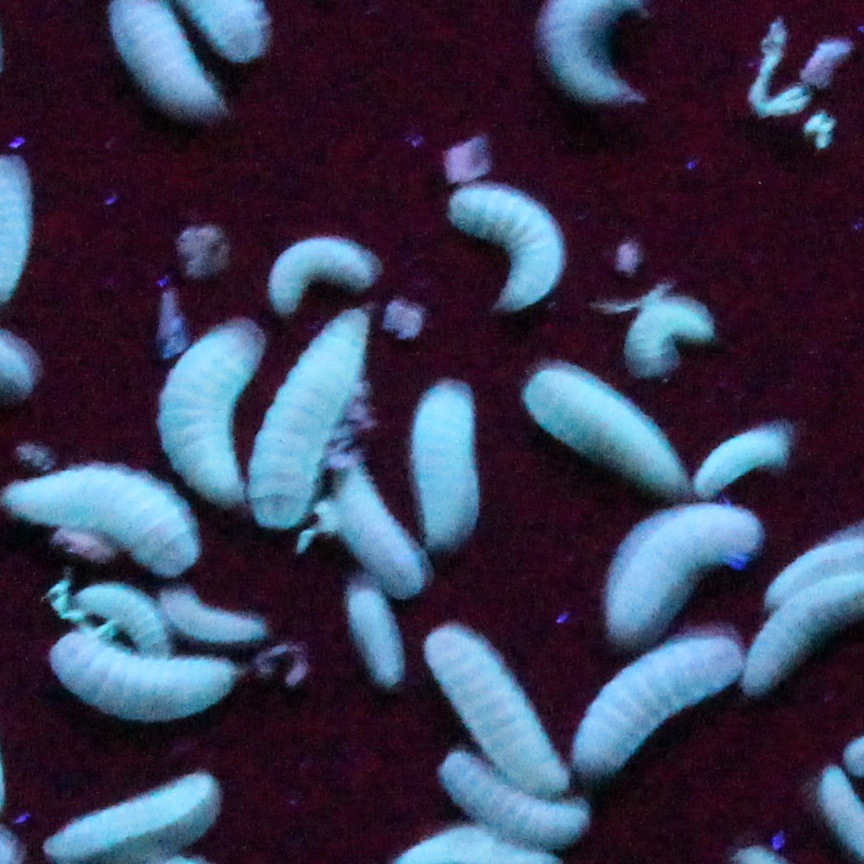larve: (420, 622, 566, 796), (260, 318, 366, 529), (1, 472, 196, 577), (586, 638, 740, 770), (524, 369, 685, 489), (602, 505, 752, 632), (54, 633, 235, 725), (47, 769, 222, 864), (161, 331, 246, 497), (407, 379, 490, 548), (450, 181, 560, 304), (440, 772, 577, 838), (337, 469, 414, 586), (263, 234, 379, 304), (699, 415, 801, 493), (340, 585, 404, 694), (164, 587, 265, 649), (625, 294, 710, 367)
